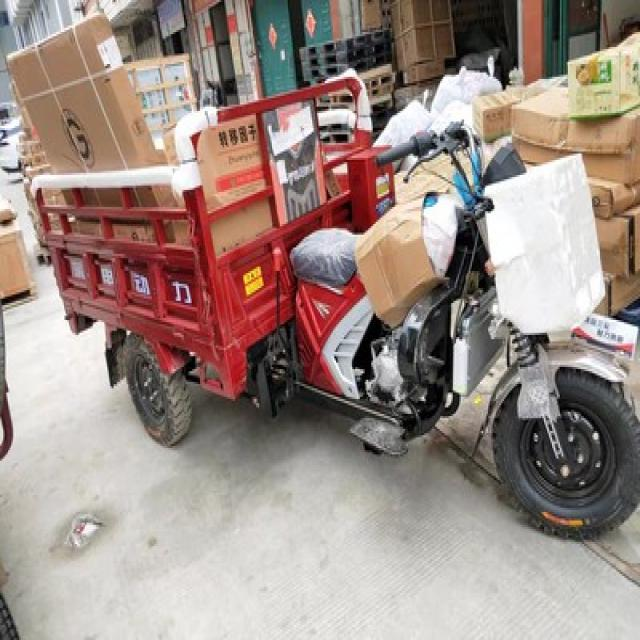tricycle: (27, 66, 637, 540)
